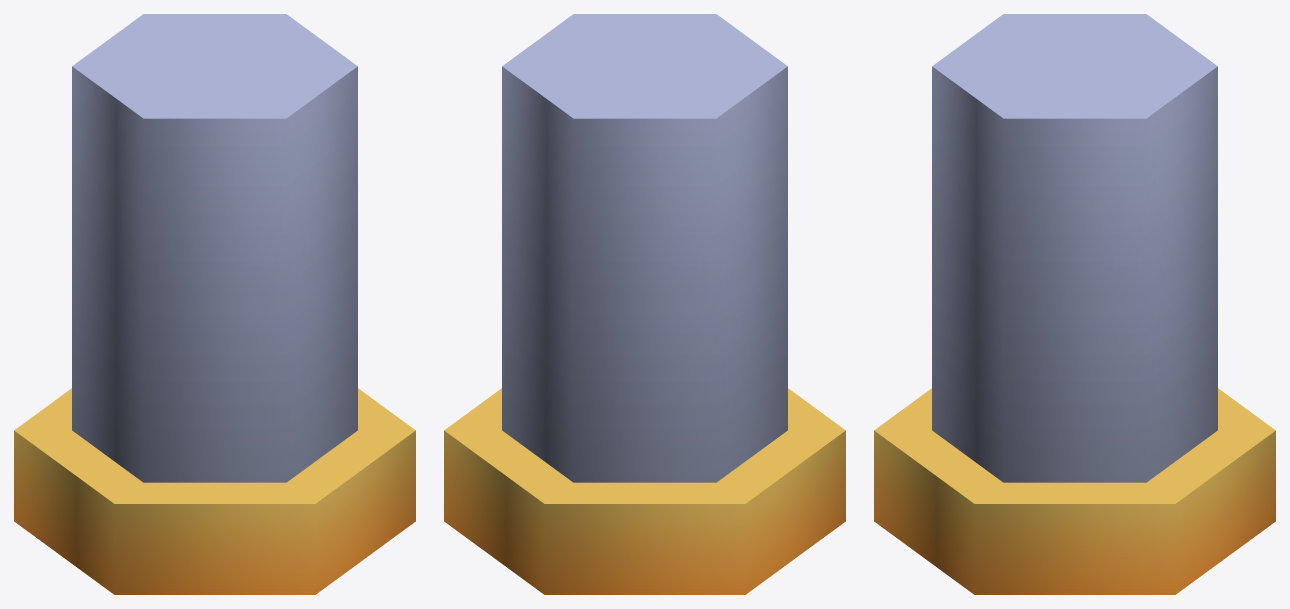
File: kenney-space-station-pipe-end-colored.glb
3 renders of one model, left to right at view 1: azimuth 30°, elevation 25°; view 2: azimuth 150°, elevation 25°; view 3: azimuth 270°, elevation 25°, orthographic.
Visible parts, largest first — view 1: pipe-end-colored; view 2: pipe-end-colored; view 3: pipe-end-colored.
Part boxes in pixels (box(x1,y1,x2,y2)): pipe-end-colored: box(14, 14, 415, 594); pipe-end-colored: box(444, 14, 845, 594); pipe-end-colored: box(874, 14, 1275, 594).
Bounding box in the file's own units: 0.3464 × 0.5 × 0.4.
Materials: 1 (1 with a texture image).
